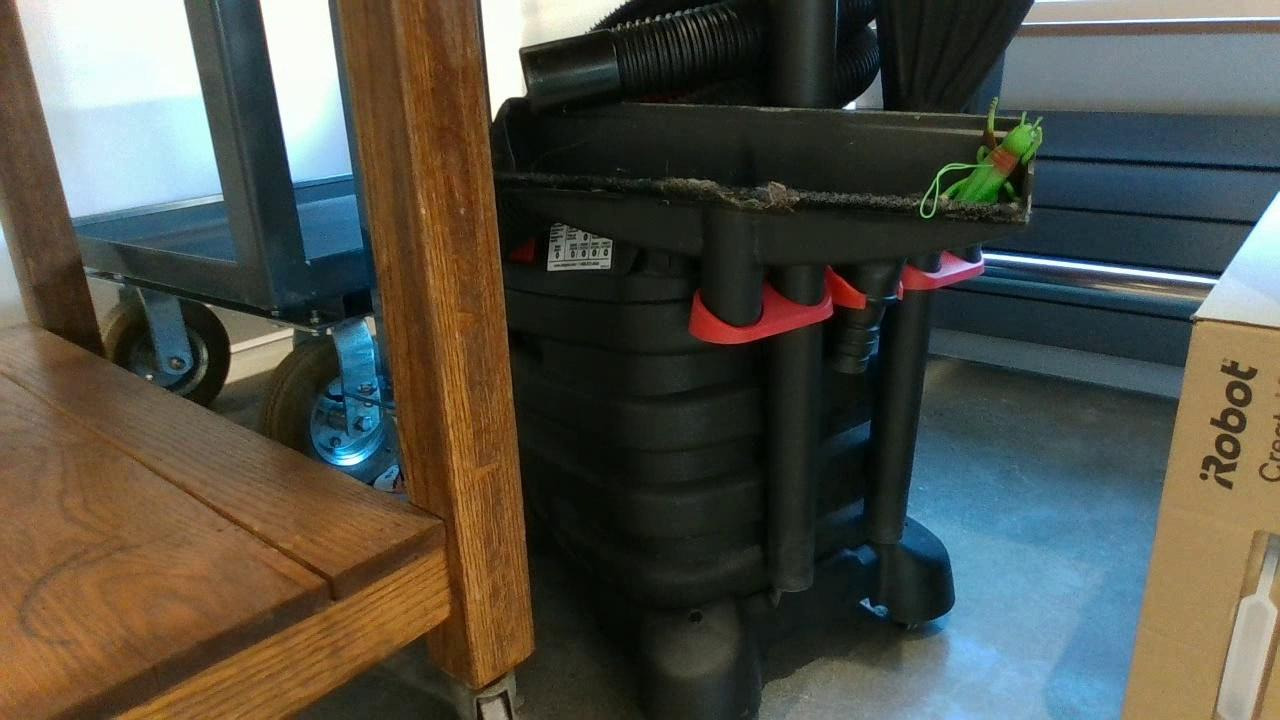grasshopper: (928, 97, 1045, 210)
